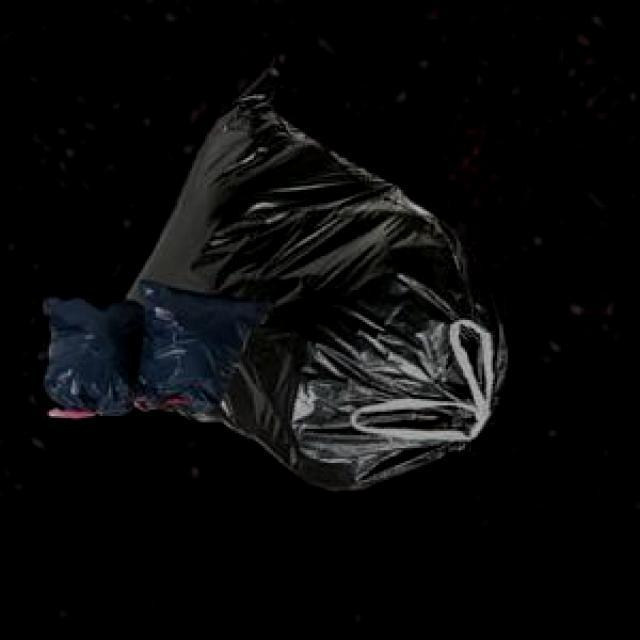Trashbag: (262, 97, 514, 495), (134, 275, 276, 423), (41, 292, 147, 420)
